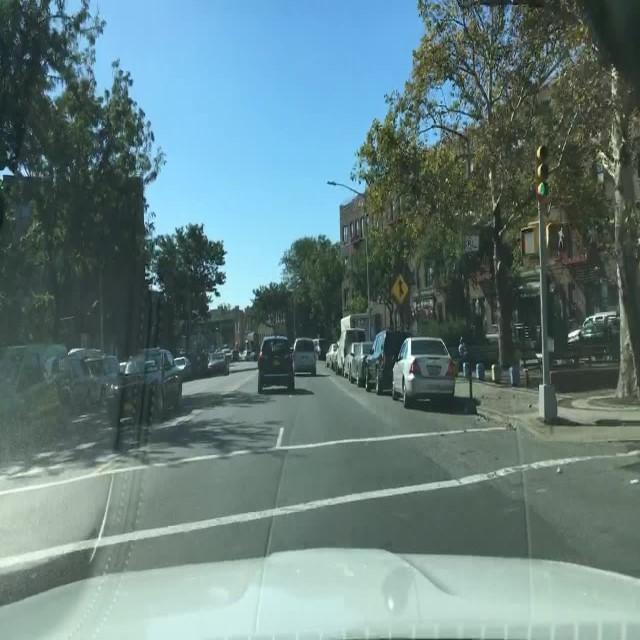normal: (232, 297, 328, 410), (393, 335, 455, 403), (359, 330, 389, 393), (207, 350, 231, 374)
